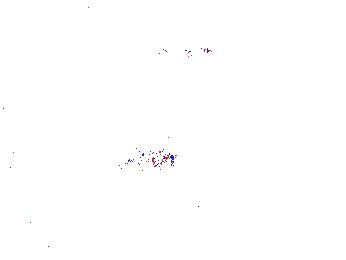X-ray fish: (125, 149, 177, 170)
red belly glassfish: (161, 44, 212, 58)
redtail glassfish: (101, 106, 170, 142)
